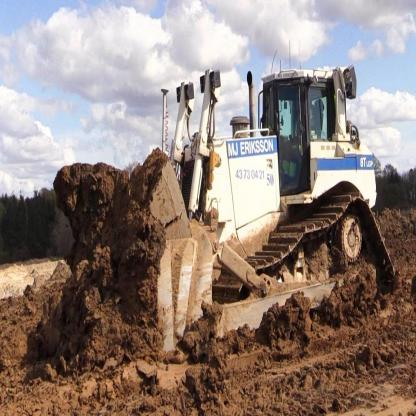bull_dozer/loader/grader: (99, 52, 414, 361)
